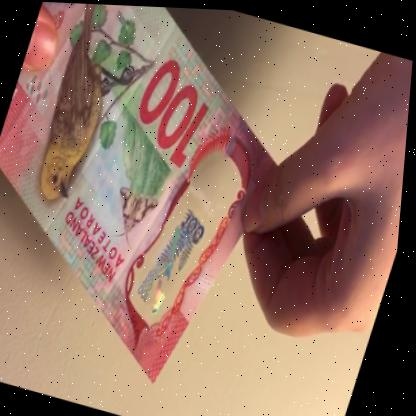100B: (131, 198, 217, 327)
